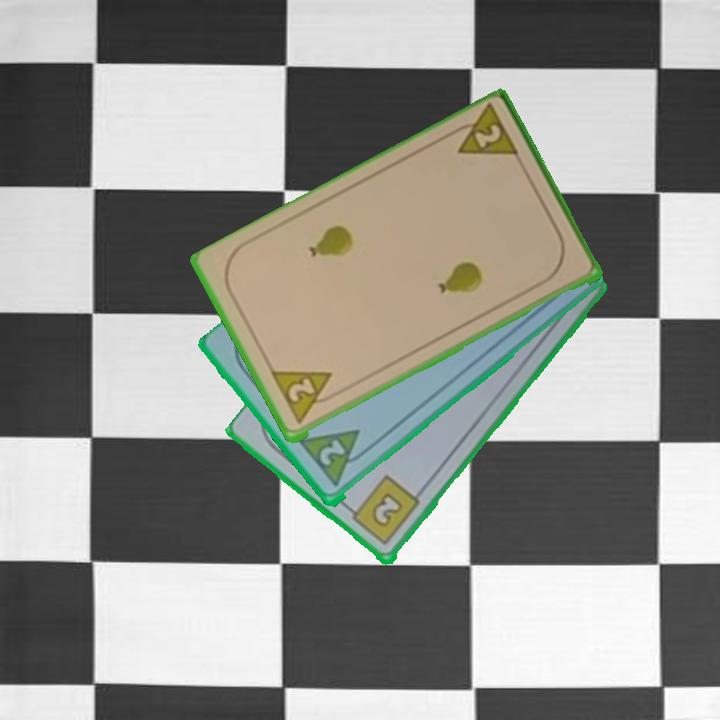2b: (343, 472, 423, 549)
2p: (296, 426, 375, 491), (444, 103, 523, 163), (268, 367, 343, 428)
